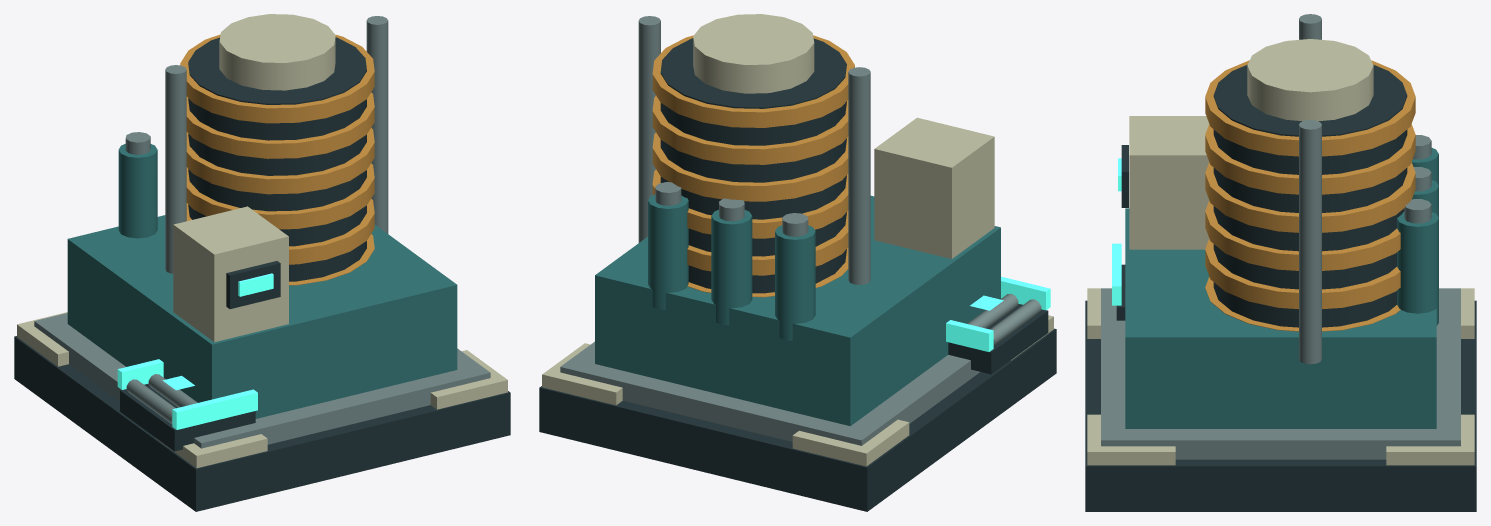
The model's file is cell_generator.glb.
The picture shows the model from 3 angles, left to right: view 1: azimuth 30°, elevation 25°; view 2: azimuth 150°, elevation 25°; view 3: azimuth 270°, elevation 25°; orthographic projection. The views are drawn at different scales.
Visible parts, largest first — view 1: Batched static factory; view 2: Batched static factory; view 3: Batched static factory.
Part boxes in pixels (x1=…): Batched static factory: x1=14, y1=14, x2=510, y2=511; Batched static factory: x1=539, y1=14, x2=1056, y2=511; Batched static factory: x1=1085, y1=14, x2=1476, y2=511.
Bounding box in the file's own units: 1.9 × 1.99 × 1.86.
